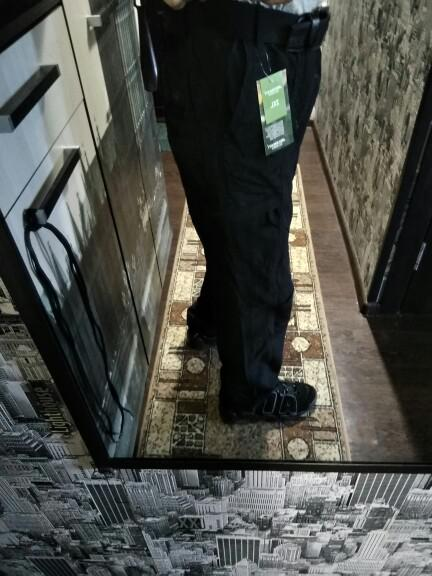pants: (150, 5, 324, 401)
